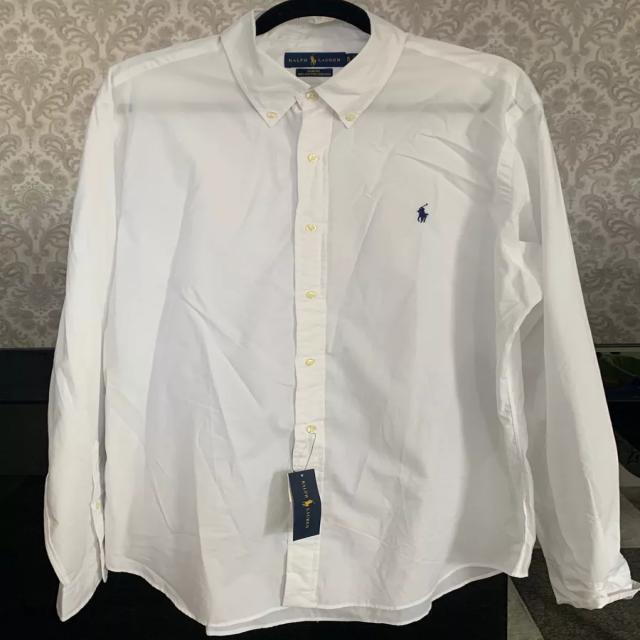long sleeve shirt: (41, 6, 640, 638)
